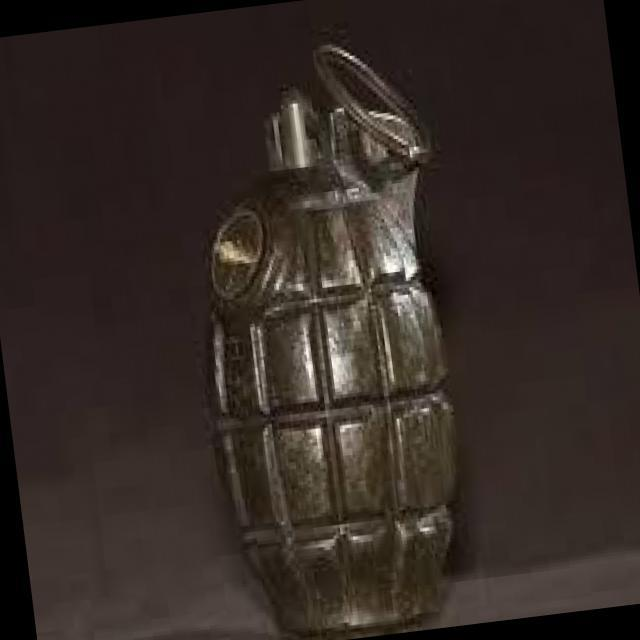grenade: (165, 41, 479, 640)
